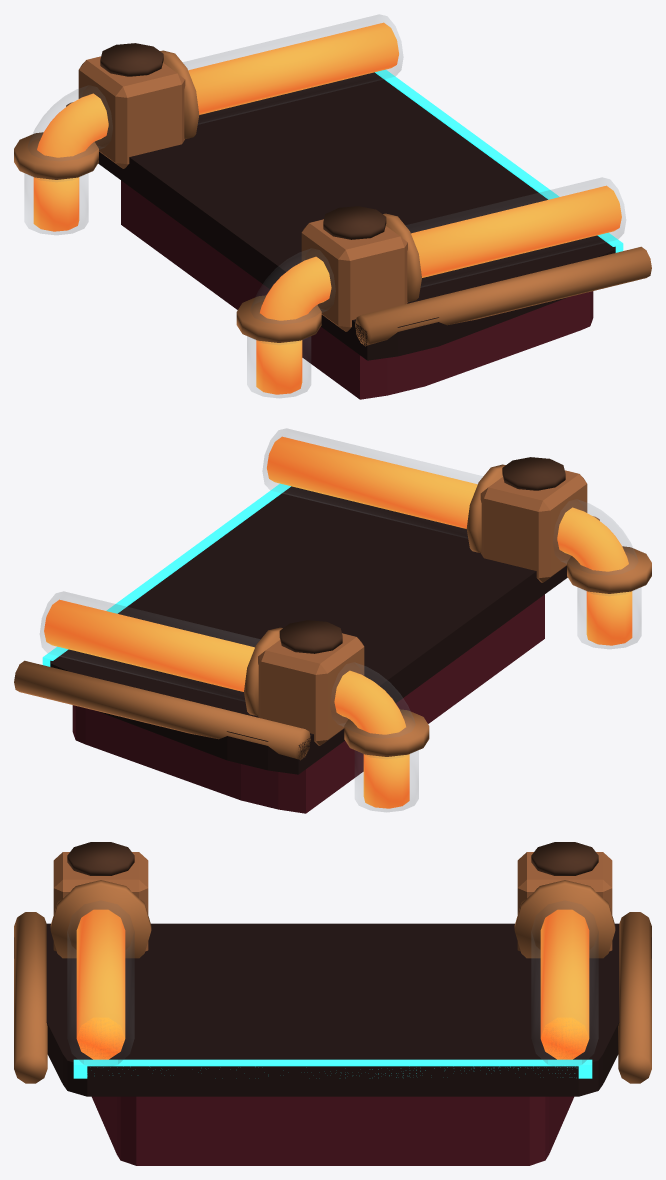
File: Pier_Angled_00.glb
The picture shows the model from 3 angles, top to bottom: view 1: azimuth 30°, elevation 25°; view 2: azimuth 150°, elevation 25°; view 3: azimuth 270°, elevation 25°; orthographic projection. The views are drawn at different scales.
Parts seen in each view (by area): view 1: CP_Pier_Angled_00; view 2: CP_Pier_Angled_00; view 3: CP_Pier_Angled_00.
Part boxes in pixels (<box>): CP_Pier_Angled_00: <box>14,14,651,399</box>; CP_Pier_Angled_00: <box>14,428,651,813</box>; CP_Pier_Angled_00: <box>14,842,651,1165</box>.
Bounding box in the file's own units: 2.9 × 1.31 × 4.18.
